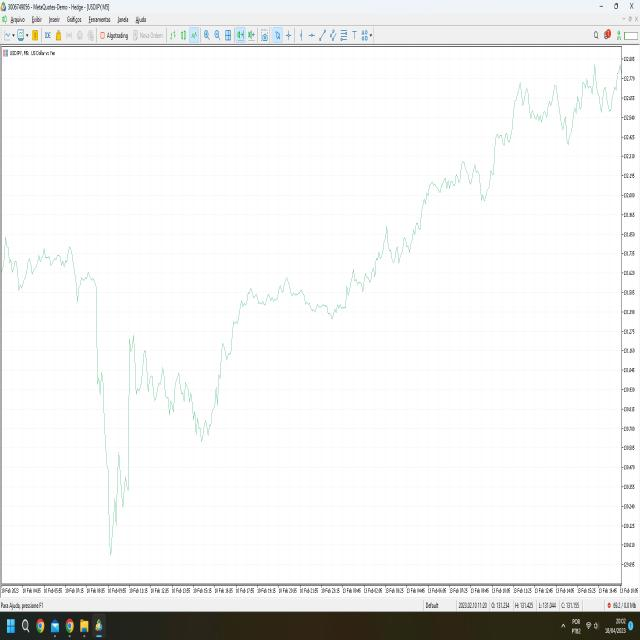bandeira_alta: (485, 109, 517, 235)
fundo_duplo: (86, 384, 143, 586)
